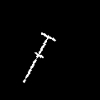double_crochet: (23, 33, 55, 81)
